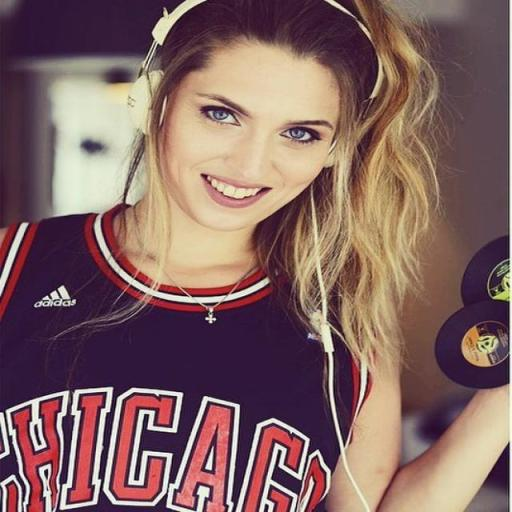Adidas: (30, 283, 79, 309)
